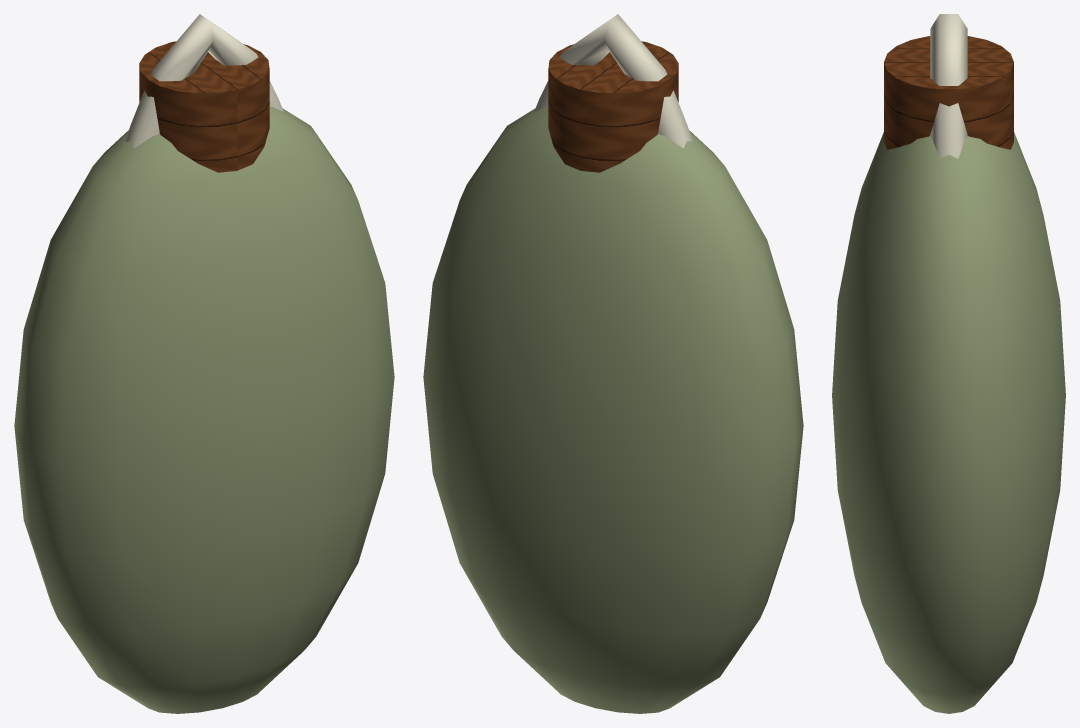
File: primitive-crafting-workshop-hide-water-flask-32061a46__21568.glb
The picture shows the model from 3 angles, left to right: view 1: azimuth 30°, elevation 25°; view 2: azimuth 150°, elevation 25°; view 3: azimuth 270°, elevation 25°; orthographic projection.
Parts seen in each view (by area): view 1: hide-water-flask; view 2: hide-water-flask; view 3: hide-water-flask.
Part boxes in pixels (box(x1,y1,x2,y2)): hide-water-flask: box(14, 14, 394, 713); hide-water-flask: box(423, 14, 803, 713); hide-water-flask: box(832, 14, 1065, 713).
Size of the model in its own units: 0.224 by 0.4087 by 0.126.
3 materials, 1 textured.
